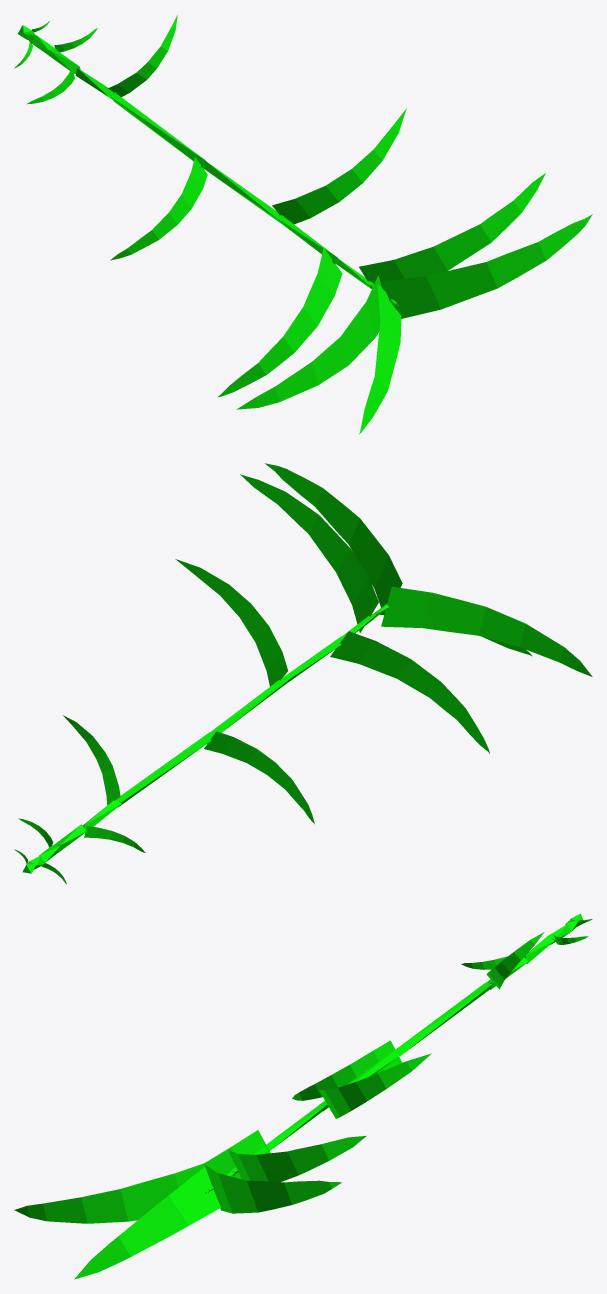
File: usm_12_Beer_2018-09-15_0.obj
3 renders of one model, top to bottom at view 1: azimuth 30°, elevation 25°; view 2: azimuth 150°, elevation 25°; view 3: azimuth 330°, elevation 25°, orthographic.
Parts seen in each view (by area): view 1: vid_24, vid_20, vid_22, vid_18, vid_16, vid_26, vid_14, vid_12, vid_13, vid_15; view 2: vid_22, vid_24, vid_20, vid_18, vid_16, vid_14, vid_12, vid_13, vid_15; view 3: vid_26, vid_22, vid_24, vid_20, vid_16, vid_14, vid_13, vid_18, vid_12, vid_17.
Part boxes in pixels (box(x1,y1,x2,y2)): vid_24: box(381, 214, 592, 318); vid_20: box(359, 173, 545, 291); vid_22: box(236, 275, 381, 409); vid_18: box(217, 248, 342, 397); vid_16: box(272, 108, 406, 224); vid_26: box(359, 284, 401, 434); vid_14: box(110, 157, 207, 260); vid_12: box(108, 15, 177, 97); vid_13: box(110, 94, 205, 167); vid_15: box(203, 161, 283, 223); vid_22: box(381, 586, 592, 676); vid_24: box(265, 463, 402, 607); vid_20: box(240, 474, 378, 632); vid_18: box(330, 631, 489, 753); vid_16: box(175, 559, 287, 686); vid_14: box(204, 731, 314, 824); vid_12: box(63, 715, 120, 804); vid_13: box(116, 732, 211, 807); vid_15: box(210, 679, 287, 736); vid_26: box(74, 1167, 220, 1279); vid_22: box(14, 1159, 218, 1223); vid_24: box(204, 1164, 341, 1213); vid_20: box(228, 1135, 366, 1182); vid_16: box(319, 1053, 431, 1118); vid_14: box(292, 1040, 402, 1100); vid_13: box(397, 982, 492, 1055); vid_18: box(205, 1130, 270, 1179); vid_12: box(486, 932, 544, 989); vid_17: box(265, 1105, 325, 1151).
Size of the model in its own units: 131 by 66.13 by 278.
